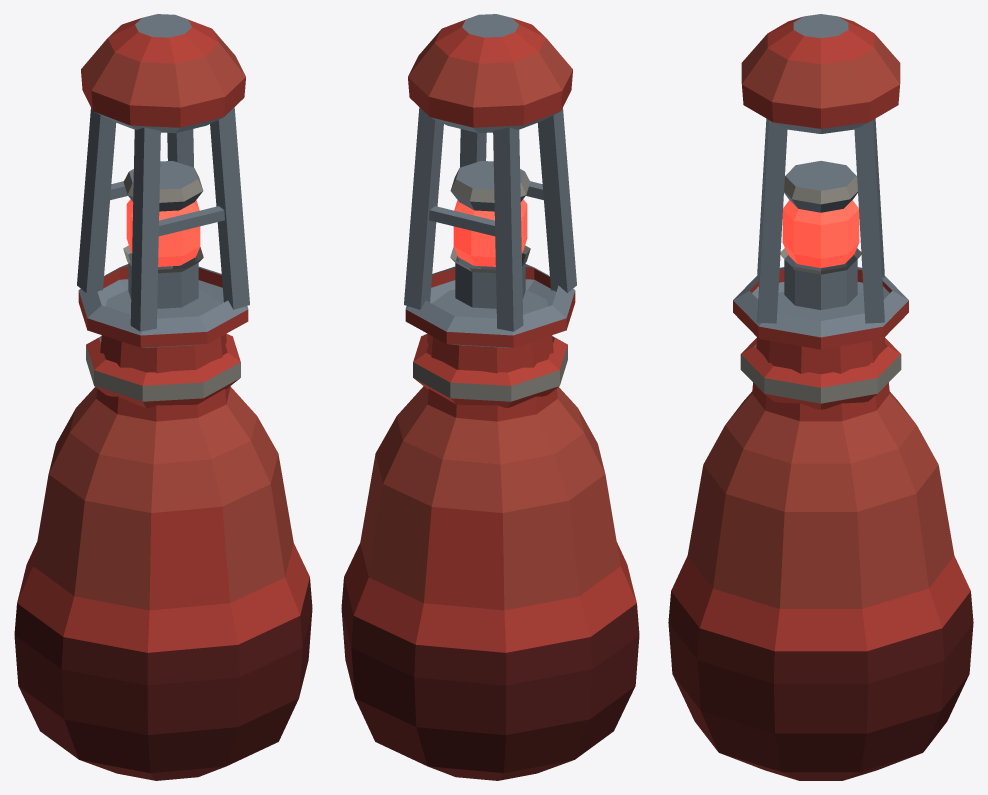
Rendered from buoy_red.glb.
The picture shows the model from 3 angles, left to right: view 1: azimuth 30°, elevation 25°; view 2: azimuth 150°, elevation 25°; view 3: azimuth 270°, elevation 25°; orthographic projection.
Visible parts, largest first — view 1: Navigation_red; view 2: Navigation_red; view 3: Navigation_red.
Boxes of the visible parts, x1,y1,x2,y2 form: Navigation_red: [14, 14, 312, 780]; Navigation_red: [341, 14, 639, 780]; Navigation_red: [668, 14, 973, 780].
Size of the model in its own units: 0.6657 by 1.84 by 0.7.
